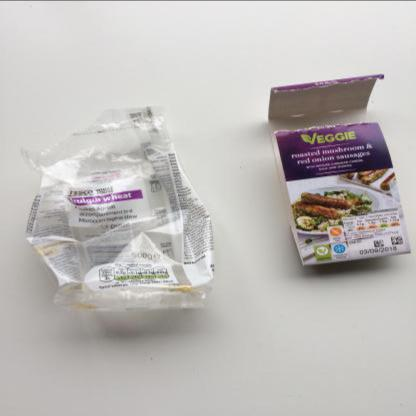Carton: (268, 73, 411, 265)
Plastic bag - wrapper: (20, 106, 214, 312)
